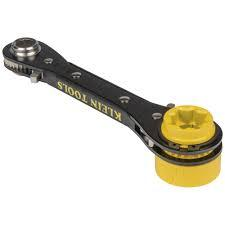wrench: (1, 36, 222, 187)
